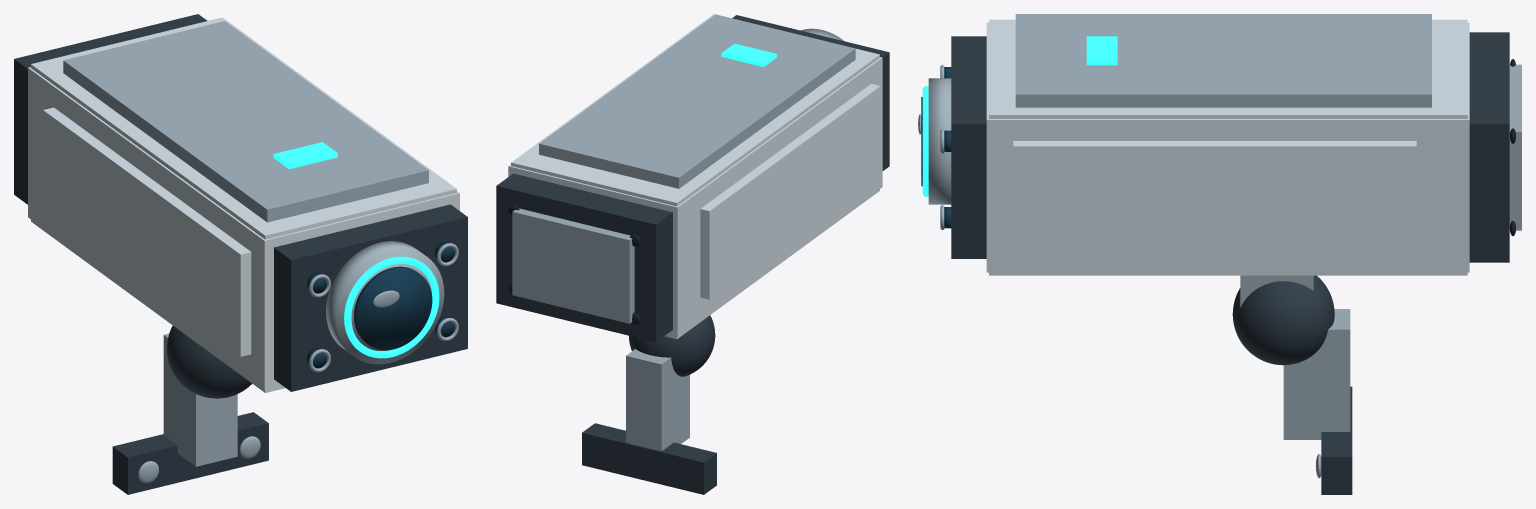
File: vexora-ai-camera.glb
3 renders of one model, left to right at view 1: azimuth 30°, elevation 25°; view 2: azimuth 150°, elevation 25°; view 3: azimuth 270°, elevation 25°, orthographic. The views are drawn at different scales.
Parts seen in each view (by area): view 1: TopArmor, LeftSidePanel, MainHousing, FrontFace, Explode_TopHousing, MountArm, WallMountPlate, OpticalGlass, FrontLensBezel, RearCover, MountPivot, FrontLensLightRing (+2 smaller); view 2: TopArmor, LeftSidePanel, RearCover, MainHousing, RearEndCap, Explode_TopHousing, WallMountPlate, MountArm, MountPivot, FrontFace, TopStatusLight, Explode_BottomHousing; view 3: RightSidePanel, TopArmor, MainHousing, Explode_TopHousing, RearCover, FrontFace, MountPivot, MountArm, FrontLensBezel, WallMountPlate, RearEndCap, Explode_BottomHousing (+3 smaller).
Boxes of the visible parts, bbox=[...] form: TopArmor: bbox=[63, 21, 428, 222]; LeftSidePanel: bbox=[43, 107, 251, 356]; MainHousing: bbox=[28, 67, 459, 390]; FrontFace: bbox=[274, 204, 467, 391]; Explode_TopHousing: bbox=[31, 17, 456, 239]; MountArm: bbox=[163, 333, 237, 466]; WallMountPlate: bbox=[112, 412, 268, 494]; OpticalGlass: bbox=[353, 266, 432, 350]; FrontLensBezel: bbox=[326, 241, 444, 364]; RearCover: bbox=[14, 14, 207, 204]; MountPivot: bbox=[167, 325, 251, 398]; FrontLensLightRing: bbox=[344, 256, 439, 358]; TopArmor: bbox=[539, 14, 855, 188]; LeftSidePanel: bbox=[700, 84, 880, 299]; RearCover: bbox=[496, 173, 672, 342]; MainHousing: bbox=[508, 57, 882, 336]; RearEndCap: bbox=[512, 208, 634, 323]; Explode_TopHousing: bbox=[511, 14, 879, 206]; WallMountPlate: bbox=[582, 423, 716, 494]; MountArm: bbox=[626, 349, 689, 451]; MountPivot: bbox=[629, 315, 715, 376]; FrontFace: bbox=[732, 15, 889, 170]; TopStatusLight: bbox=[721, 43, 776, 66]; Explode_BottomHousing: bbox=[664, 189, 879, 339]; RightSidePanel: bbox=[1013, 141, 1416, 250]; TopArmor: bbox=[1015, 14, 1431, 107]; MainHousing: bbox=[986, 22, 1469, 272]; Explode_TopHousing: bbox=[989, 19, 1467, 118]; RearCover: bbox=[1469, 32, 1509, 262]; FrontFace: bbox=[951, 36, 986, 258]; MountPivot: bbox=[1232, 275, 1334, 365]; MountArm: bbox=[1283, 309, 1350, 439]; FrontLensBezel: bbox=[928, 78, 951, 204]; WallMountPlate: bbox=[1321, 386, 1352, 494]; RearEndCap: bbox=[1509, 64, 1521, 230]; Explode_BottomHousing: bbox=[989, 272, 1467, 275].
Size of the model in its own units: 1.16 by 2.05 by 2.72.
